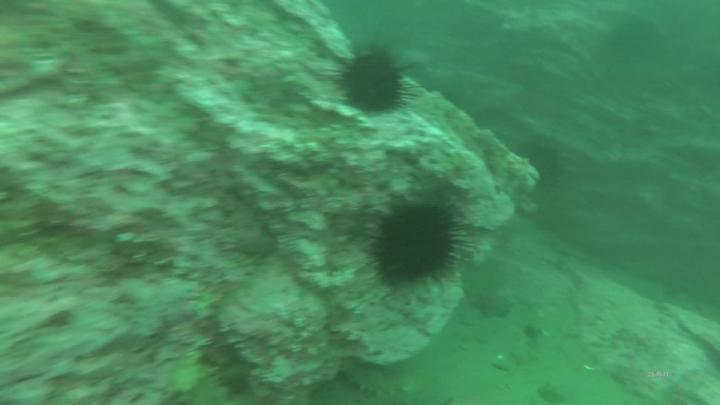echinus: (368, 194, 474, 294), (332, 44, 409, 116)
holothurian: (339, 358, 434, 405), (169, 365, 260, 405)
